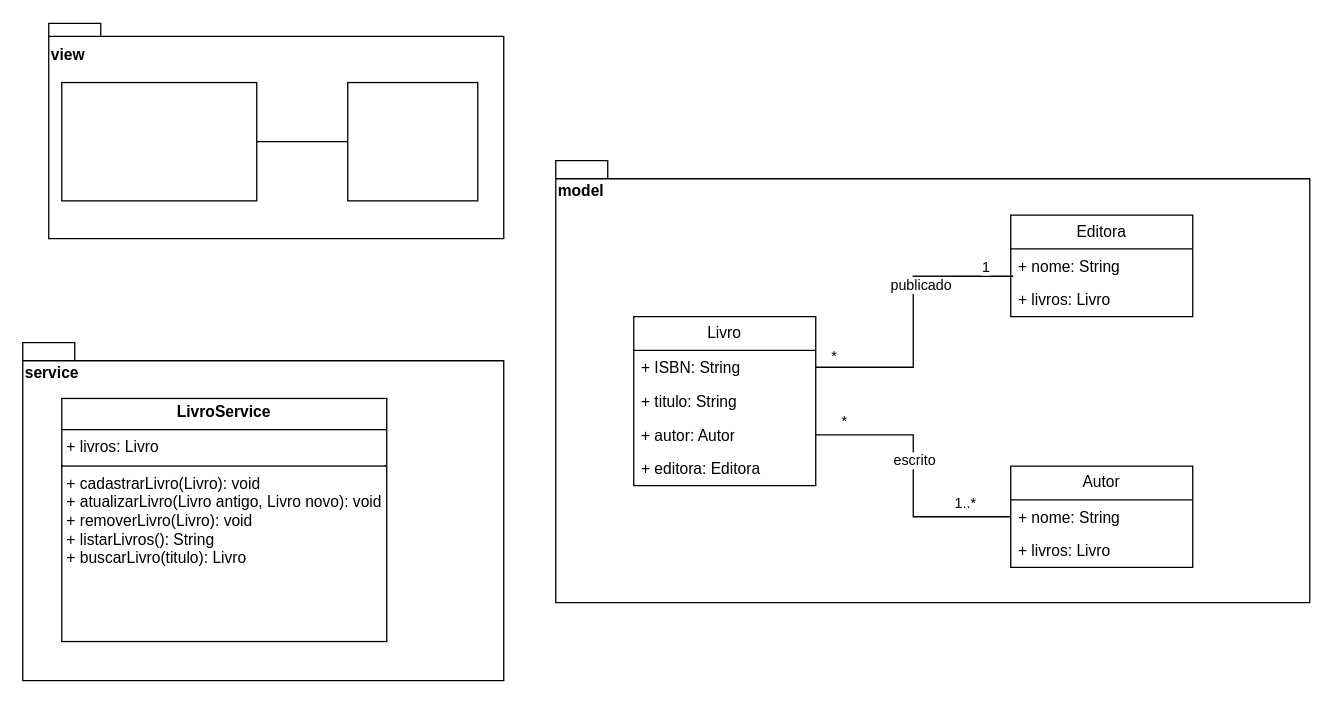
Image size: 1333x703. Some labels were removed from this diagram. The shapes that lost their labels are listed below. From the top down, each one's centre as x and y in pixels, then its label:
At (x=158, y=141): "MenuInicial + menuLivros: MenuLivros + executar(): void".
At (x=412, y=141): "MenuLivros + exibir(): void".
